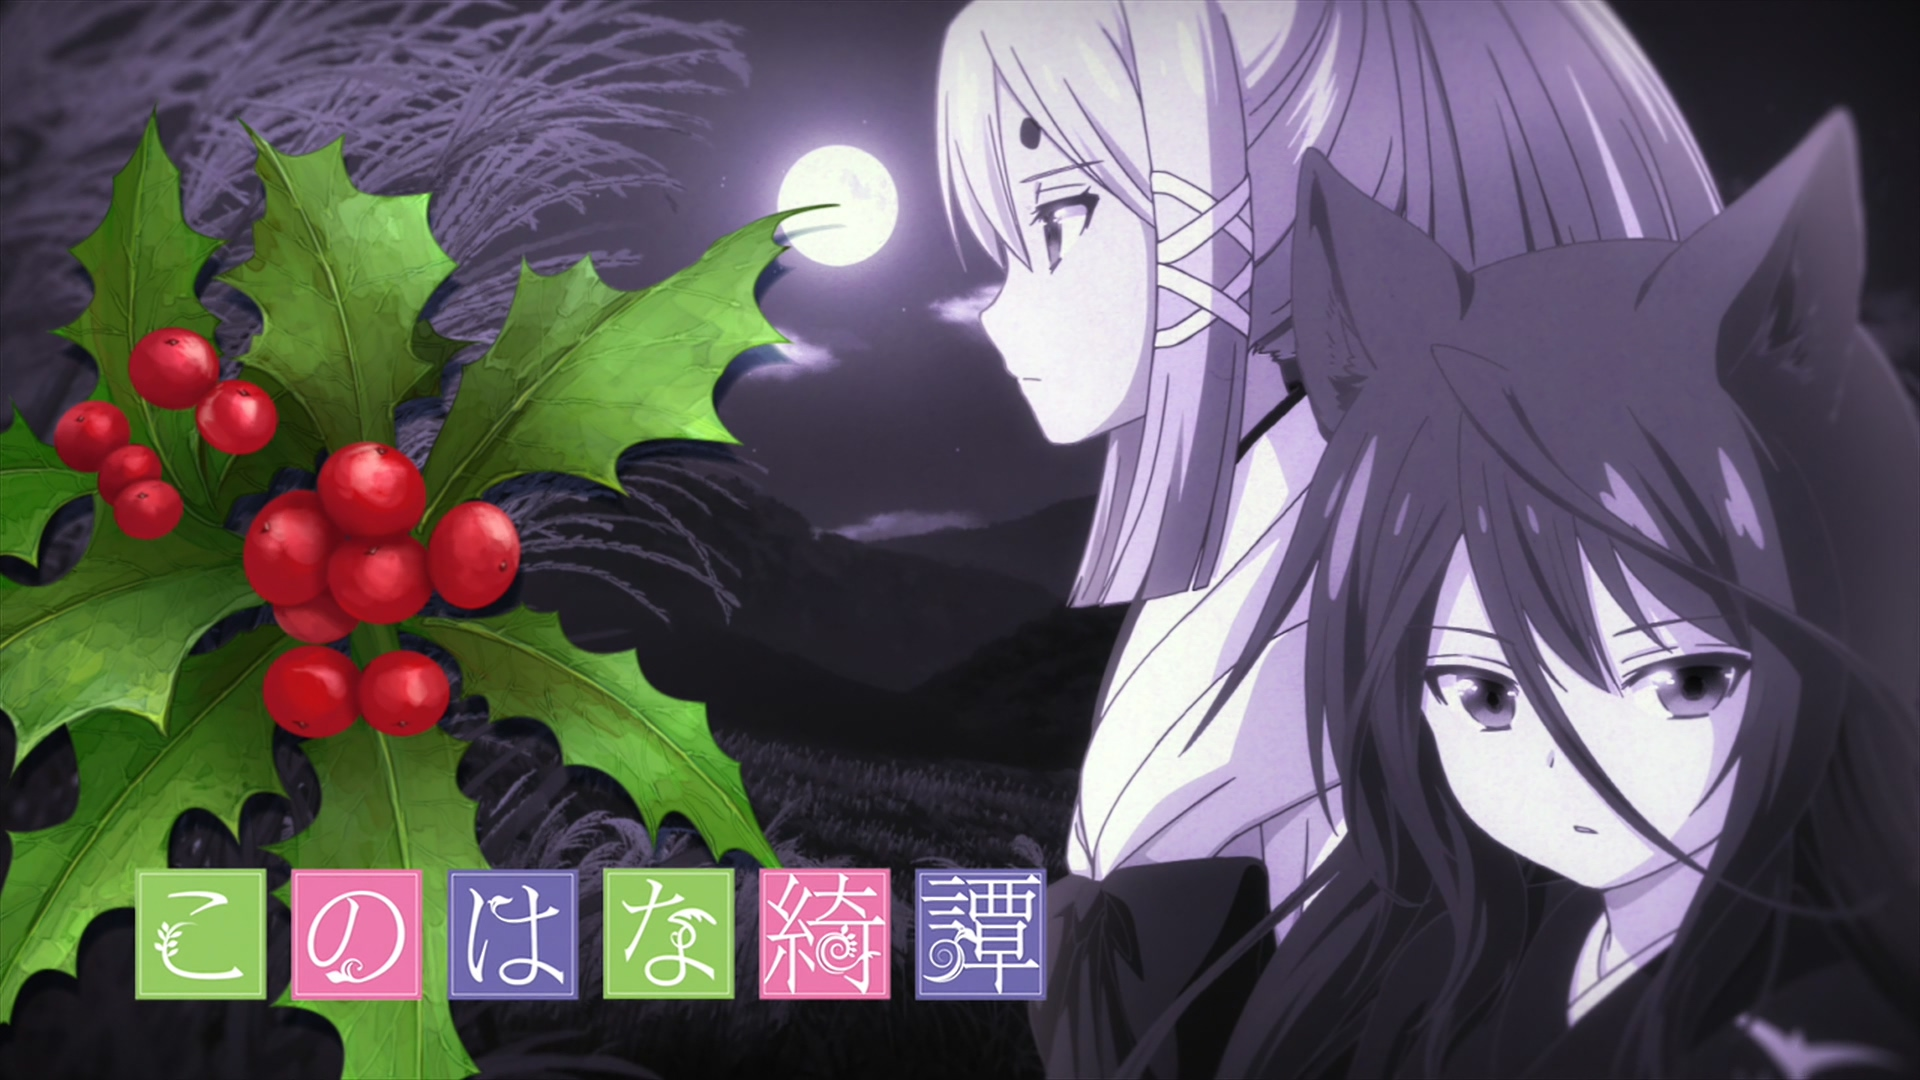柊: (935, 1, 1726, 1080)
皋: (1129, 108, 1920, 1080)
